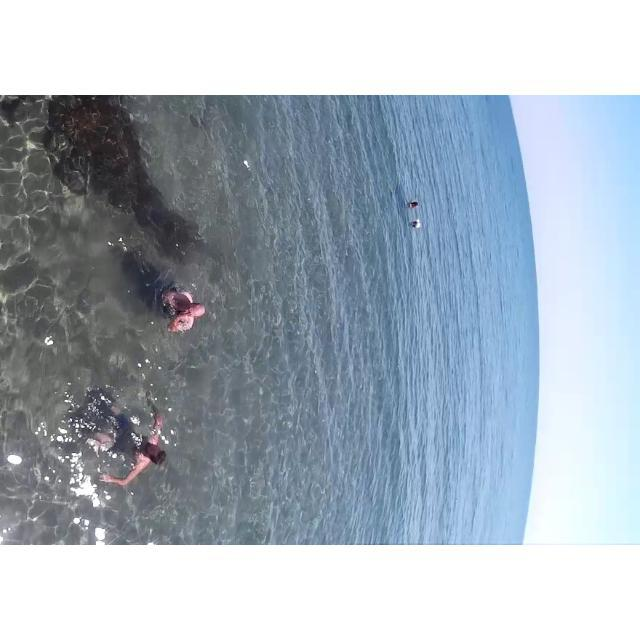human: (84, 385, 178, 485), (158, 276, 214, 353), (411, 215, 430, 236), (407, 196, 422, 215)
